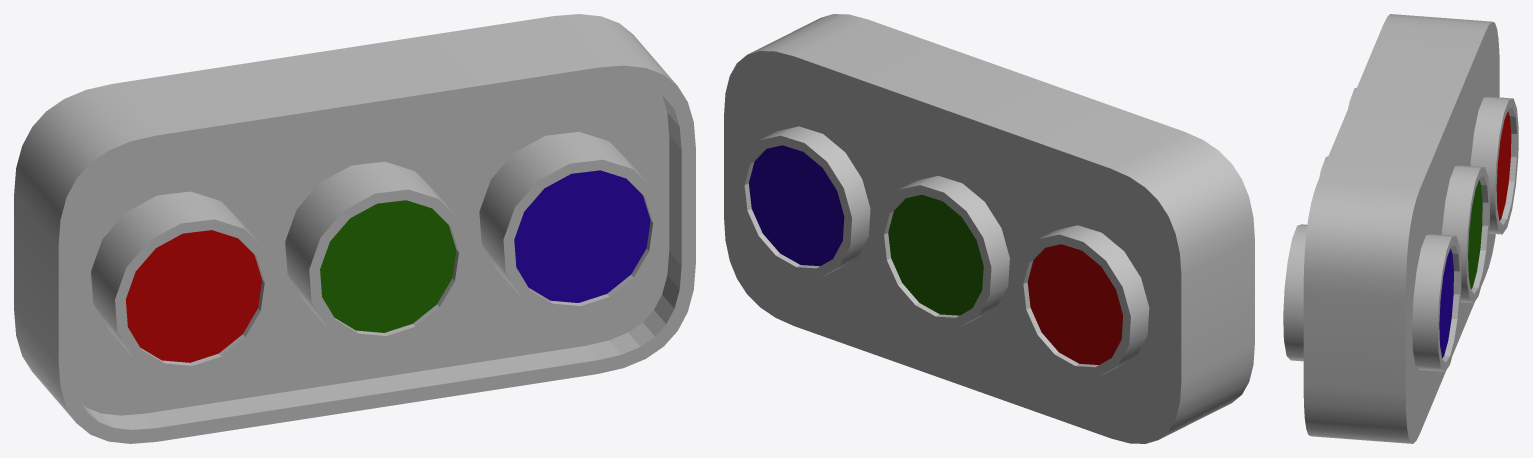
The model's file is 14 Signal_light.FBX.
3 renders of one model, left to right at view 1: azimuth 30°, elevation 25°; view 2: azimuth 150°, elevation 25°; view 3: azimuth 270°, elevation 25°, orthographic. The views are drawn at different scales.
Parts seen in each view (by area): view 1: Signel_light_1; view 2: Signel_light_1; view 3: Signel_light_1.
Part boxes in pixels (x1,y1,x2,y2): Signel_light_1: [14, 14, 695, 443]; Signel_light_1: [724, 14, 1254, 443]; Signel_light_1: [1283, 14, 1518, 443].
Size of the model in its own units: 417 by 204 by 178.
